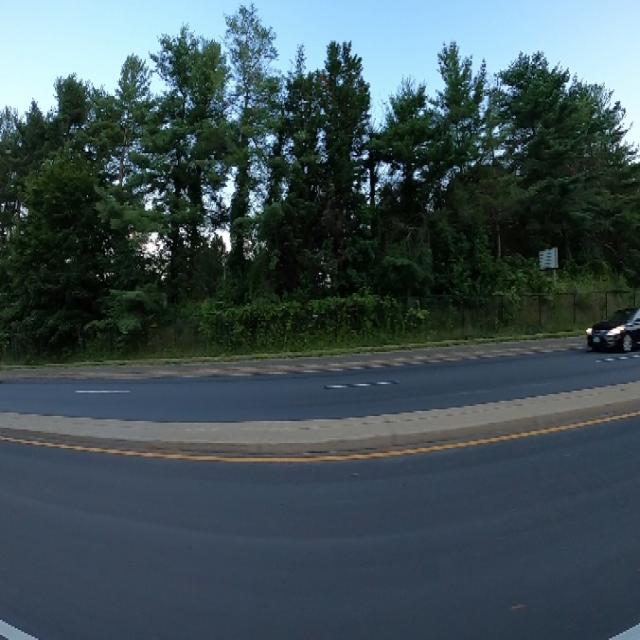car: (575, 289, 640, 358)
